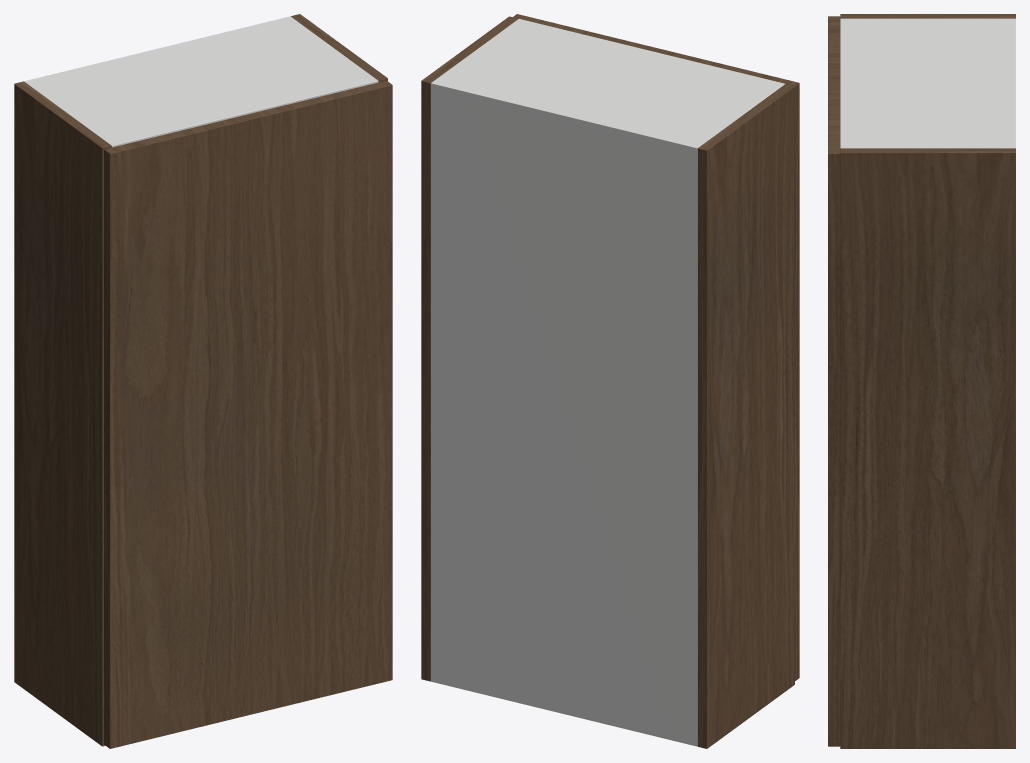
File: oppein-pb-mso-w2142.glb
3 renders of one model, left to right at view 1: azimuth 30°, elevation 25°; view 2: azimuth 150°, elevation 25°; view 3: azimuth 270°, elevation 25°, orthographic.
Parts seen in each view (by area): view 1: Door, Cabinet side, Cabinet top, Cabinet side.001; view 2: Cabinet back, Cabinet side, Cabinet top, Cabinet side.001, Door, Cabinet bottom; view 3: Cabinet side.001, Cabinet top, Door, Cabinet side.
Boxes of the visible parts, <box> form: Door: <box>104,80,392,748</box>; Cabinet side: <box>14,81,111,746</box>; Cabinet top: <box>24,16,378,147</box>; Cabinet side.001: <box>291,14,387,82</box>; Cabinet back: <box>431,83,697,746</box>; Cabinet side: <box>697,84,794,748</box>; Cabinet top: <box>431,19,784,156</box>; Cabinet side.001: <box>421,16,518,681</box>; Door: <box>513,14,799,680</box>; Cabinet bottom: <box>431,674,697,746</box>; Cabinet side.001: <box>840,148,1015,748</box>; Cabinet top: <box>840,18,1015,148</box>; Door: <box>828,16,840,746</box>; Cabinet side: <box>840,14,1015,18</box>.
Size of the model in its own units: 0.5334 by 1.07 by 0.3048.
Materials: 2 (1 with a texture image).
